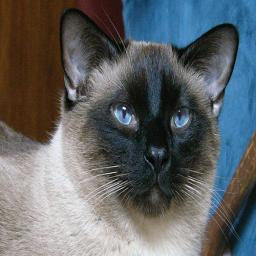catnose: (142, 137, 172, 175)
